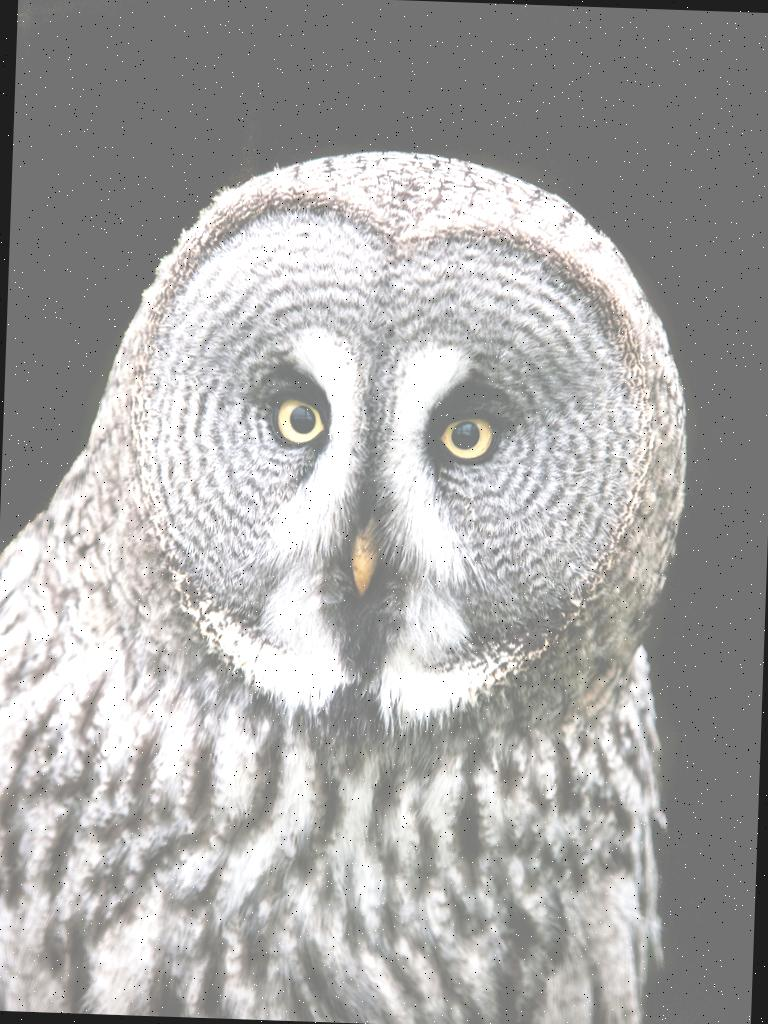Owl: (0, 132, 706, 1024)
